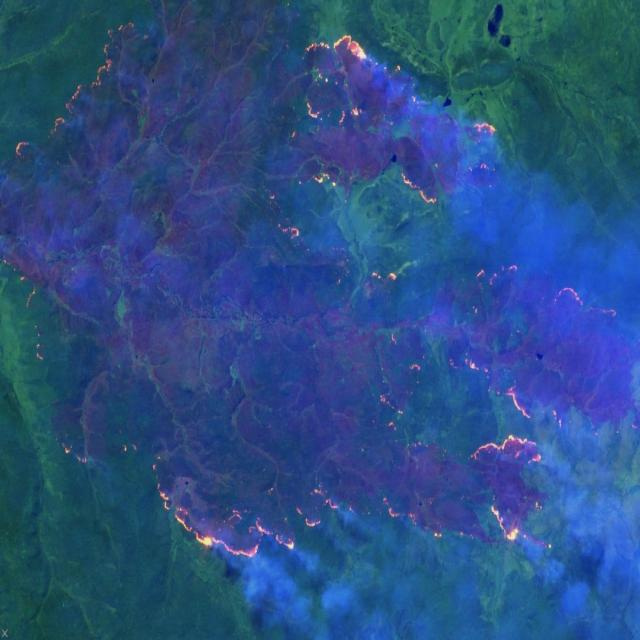fire: (148, 27, 640, 640)
